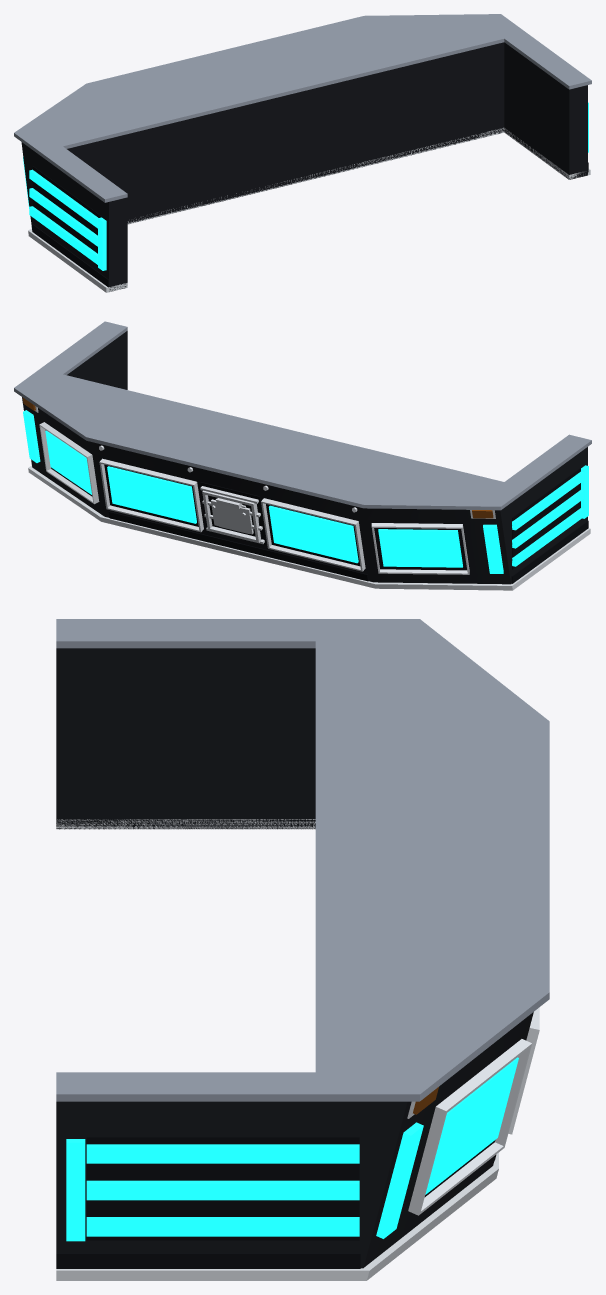
File: fb_wrap_deck_wide.glb
3 views of the same model, one above another, from view 1: azimuth 30°, elevation 25°; view 2: azimuth 150°, elevation 25°; view 3: azimuth 270°, elevation 25° (orthographic). The views are drawn at different scales.
Visible parts, largest first — view 1: fb_wrap_deck_wide_LMID_deco_body, fb_wrap_deck_wide_LTOP_deco_checker, fb_wrap_deck_wide_LTOP_deco_body, fb_wrap_deck_wide_BOT_deco_body, fb_wrap_deck_wide_LMID_deco_neon, fb_wrap_deck_wide_BOT_chrome, fb_wrap_deck_wide_LBOT_deco_body, fb_wrap_deck_wide_MID_deco_trim, fb_wrap_deck_wide_BOT_deco_trim, fb_wrap_deck_wide_MID_deco_neon; view 2: fb_wrap_deck_wide_LTOP_deco_checker, fb_wrap_deck_wide_LMID_deco_neon, fb_wrap_deck_wide_LTOP_deco_body, fb_wrap_deck_wide_LMID_deco_body, fb_wrap_deck_wide_MID_chrome, fb_wrap_deck_wide_BOT_chrome, fb_wrap_deck_wide_BOT_deco_trim, fb_wrap_deck_wide_BOT_deco_body, fb_wrap_deck_wide_LMID_deco_trim, fb_wrap_deck_wide_MID_deco_neon, fb_wrap_deck_wide_MID_deco_trim, fb_wrap_deck_wide_CEN_chrome (+2 smaller); view 3: fb_wrap_deck_wide_LTOP_deco_checker, fb_wrap_deck_wide_LMID_deco_body, fb_wrap_deck_wide_LMID_deco_neon, fb_wrap_deck_wide_LTOP_deco_body, fb_wrap_deck_wide_MID_deco_trim, fb_wrap_deck_wide_BOT_deco_body, fb_wrap_deck_wide_BOT_chrome, fb_wrap_deck_wide_MID_chrome, fb_wrap_deck_wide_BOT_deco_trim, fb_wrap_deck_wide_MID_deco_neon, fb_wrap_deck_wide_LBOT_deco_body.
Part boxes in pixels (x1,y1,x2,y2): fb_wrap_deck_wide_LMID_deco_body: (23, 58, 587, 276); fb_wrap_deck_wide_LTOP_deco_checker: (14, 14, 591, 202); fb_wrap_deck_wide_LTOP_deco_body: (21, 42, 587, 217); fb_wrap_deck_wide_BOT_deco_body: (31, 117, 587, 290); fb_wrap_deck_wide_LMID_deco_neon: (29, 169, 98, 264); fb_wrap_deck_wide_BOT_chrome: (28, 127, 590, 292); fb_wrap_deck_wide_LBOT_deco_body: (31, 117, 587, 291); fb_wrap_deck_wide_MID_deco_trim: (32, 166, 101, 265); fb_wrap_deck_wide_BOT_deco_trim: (32, 162, 588, 287); fb_wrap_deck_wide_MID_deco_neon: (23, 102, 588, 270); fb_wrap_deck_wide_LTOP_deco_checker: (14, 321, 591, 510); fb_wrap_deck_wide_LMID_deco_neon: (45, 430, 583, 567); fb_wrap_deck_wide_LTOP_deco_body: (22, 331, 587, 521); fb_wrap_deck_wide_LMID_deco_body: (23, 347, 587, 574); fb_wrap_deck_wide_MID_chrome: (39, 422, 469, 574); fb_wrap_deck_wide_BOT_chrome: (28, 465, 590, 590); fb_wrap_deck_wide_BOT_deco_trim: (108, 511, 588, 583); fb_wrap_deck_wide_BOT_deco_body: (31, 459, 587, 584); fb_wrap_deck_wide_LMID_deco_trim: (45, 430, 466, 570); fb_wrap_deck_wide_MID_deco_neon: (23, 410, 588, 573); fb_wrap_deck_wide_MID_deco_trim: (512, 468, 580, 569); fb_wrap_deck_wide_CEN_chrome: (202, 490, 261, 542); fb_wrap_deck_wide_LTOP_deco_checker: (56, 619, 549, 1101); fb_wrap_deck_wide_LMID_deco_body: (56, 680, 529, 1246); fb_wrap_deck_wide_LMID_deco_neon: (86, 1057, 518, 1236); fb_wrap_deck_wide_LTOP_deco_body: (56, 648, 533, 1129); fb_wrap_deck_wide_MID_deco_trim: (86, 1136, 359, 1240); fb_wrap_deck_wide_BOT_deco_body: (56, 798, 495, 1268); fb_wrap_deck_wide_BOT_chrome: (56, 819, 498, 1280); fb_wrap_deck_wide_MID_chrome: (408, 1007, 539, 1215); fb_wrap_deck_wide_BOT_deco_trim: (56, 1155, 496, 1268); fb_wrap_deck_wide_MID_deco_neon: (66, 1122, 423, 1241); fb_wrap_deck_wide_LBOT_deco_body: (56, 798, 440, 1267).
Size of the model in its own units: 2.6 by 0.48 by 1.14.
